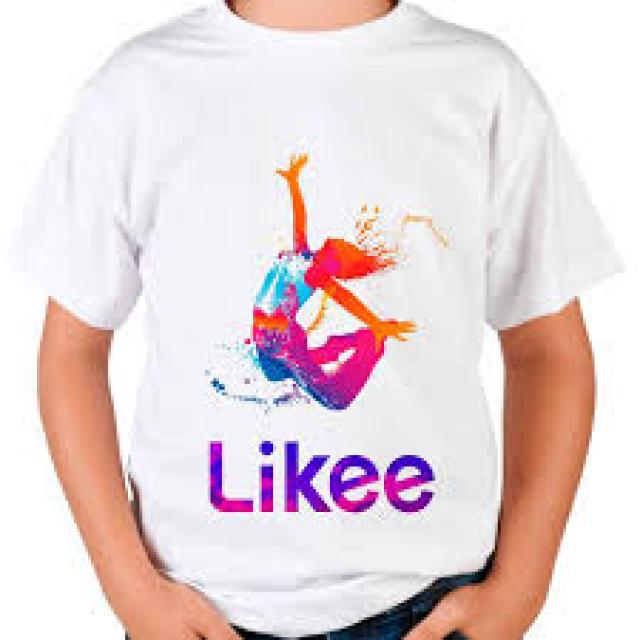Shirt: (26, 13, 606, 615)
